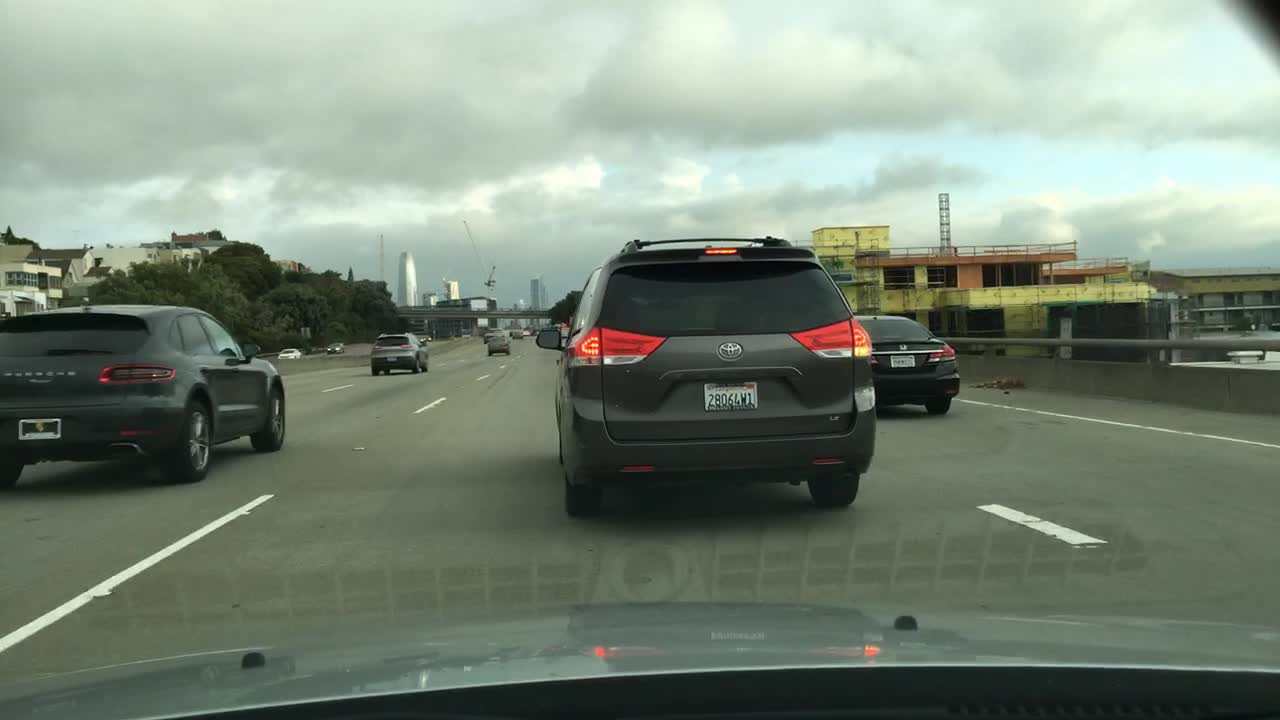car: (533, 234, 876, 518), (0, 302, 287, 488), (857, 312, 960, 418), (368, 331, 428, 378), (487, 332, 509, 358), (276, 347, 300, 361), (324, 341, 344, 353), (479, 327, 494, 341), (511, 326, 525, 341)
